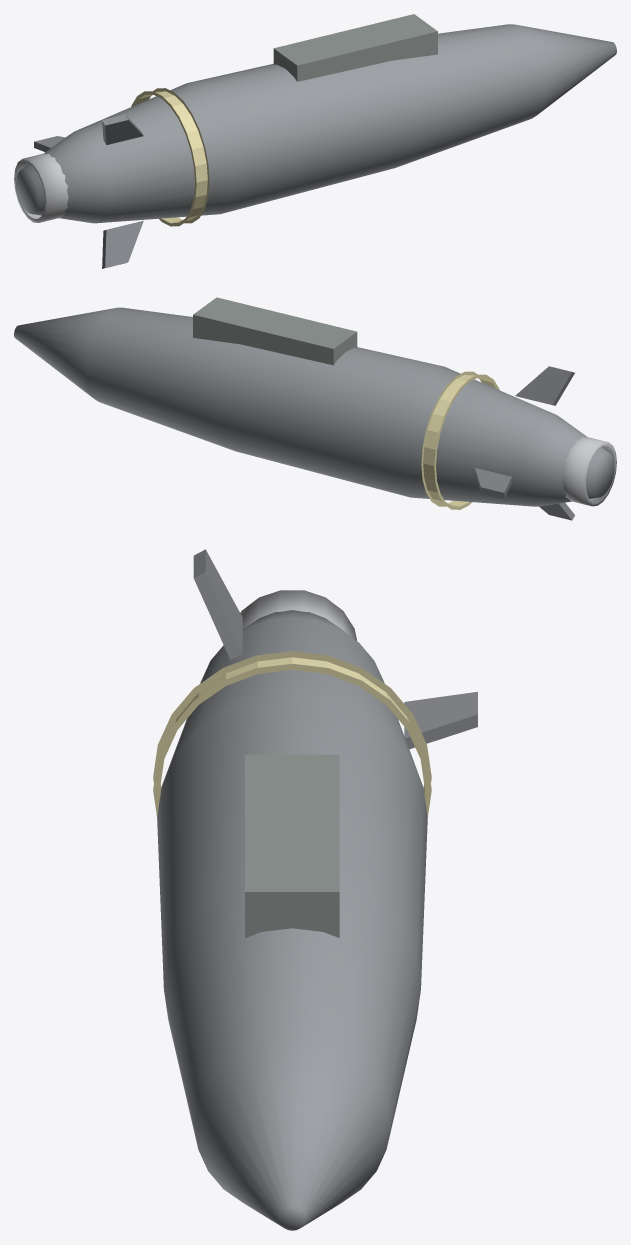
Rendered from RU_SPECIAL_SDV_Sirena_LOD1.fbx.
The picture shows the model from 3 angles, top to bottom: view 1: azimuth 30°, elevation 25°; view 2: azimuth 150°, elevation 25°; view 3: azimuth 270°, elevation 25°; orthographic projection. The views are drawn at different scales.
Visible parts, largest first — view 1: WPN_RU_SPECIAL_SDV_Sirena_LOD1_Body, WPN_RU_SPECIAL_SDV_Sirena_LOD1_Shell, WPN_RU_SPECIAL_SDV_Sirena_LOD1_Marking, WPN_RU_SPECIAL_SDV_Sirena_LOD1_Fins, WPN_RU_SPECIAL_SDV_Sirena_LOD1_Propulsor; view 2: WPN_RU_SPECIAL_SDV_Sirena_LOD1_Body, WPN_RU_SPECIAL_SDV_Sirena_LOD1_Shell, WPN_RU_SPECIAL_SDV_Sirena_LOD1_Marking, WPN_RU_SPECIAL_SDV_Sirena_LOD1_Fins, WPN_RU_SPECIAL_SDV_Sirena_LOD1_Propulsor; view 3: WPN_RU_SPECIAL_SDV_Sirena_LOD1_Body, WPN_RU_SPECIAL_SDV_Sirena_LOD1_Shell, WPN_RU_SPECIAL_SDV_Sirena_LOD1_Marking, WPN_RU_SPECIAL_SDV_Sirena_LOD1_Fins, WPN_RU_SPECIAL_SDV_Sirena_LOD1_Propulsor.
Boxes of the visible parts, x1,y1,x2,y2 form: WPN_RU_SPECIAL_SDV_Sirena_LOD1_Body: (16, 24, 616, 223); WPN_RU_SPECIAL_SDV_Sirena_LOD1_Shell: (273, 14, 437, 81); WPN_RU_SPECIAL_SDV_Sirena_LOD1_Marking: (131, 88, 209, 226); WPN_RU_SPECIAL_SDV_Sirena_LOD1_Fins: (34, 114, 143, 268); WPN_RU_SPECIAL_SDV_Sirena_LOD1_Propulsor: (14, 153, 68, 222); WPN_RU_SPECIAL_SDV_Sirena_LOD1_Body: (14, 307, 614, 506); WPN_RU_SPECIAL_SDV_Sirena_LOD1_Shell: (193, 297, 357, 365); WPN_RU_SPECIAL_SDV_Sirena_LOD1_Marking: (421, 371, 499, 509); WPN_RU_SPECIAL_SDV_Sirena_LOD1_Fins: (474, 366, 574, 520); WPN_RU_SPECIAL_SDV_Sirena_LOD1_Propulsor: (562, 437, 616, 506); WPN_RU_SPECIAL_SDV_Sirena_LOD1_Body: (157, 610, 427, 1230); WPN_RU_SPECIAL_SDV_Sirena_LOD1_Shell: (245, 754, 339, 937); WPN_RU_SPECIAL_SDV_Sirena_LOD1_Marking: (153, 651, 431, 817); WPN_RU_SPECIAL_SDV_Sirena_LOD1_Fins: (193, 549, 477, 749); WPN_RU_SPECIAL_SDV_Sirena_LOD1_Propulsor: (240, 590, 356, 640).
Bounding box in the file's own units: 8 × 1.92 × 1.94.
